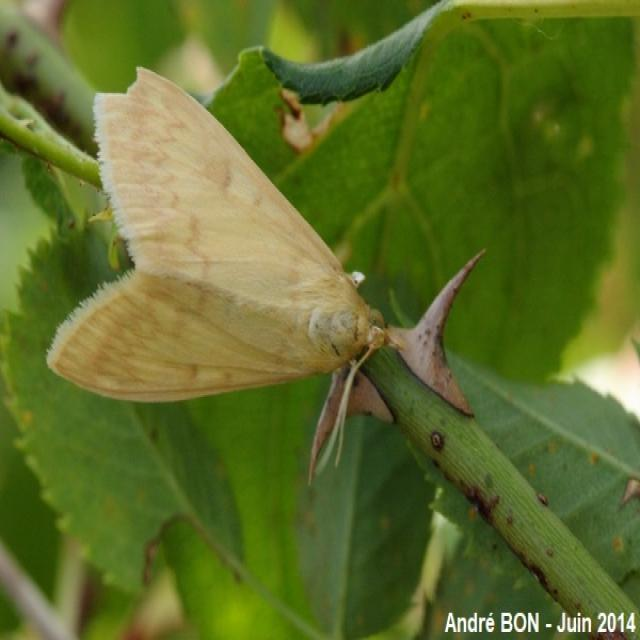cornborer-Adult-: (49, 60, 401, 489)
